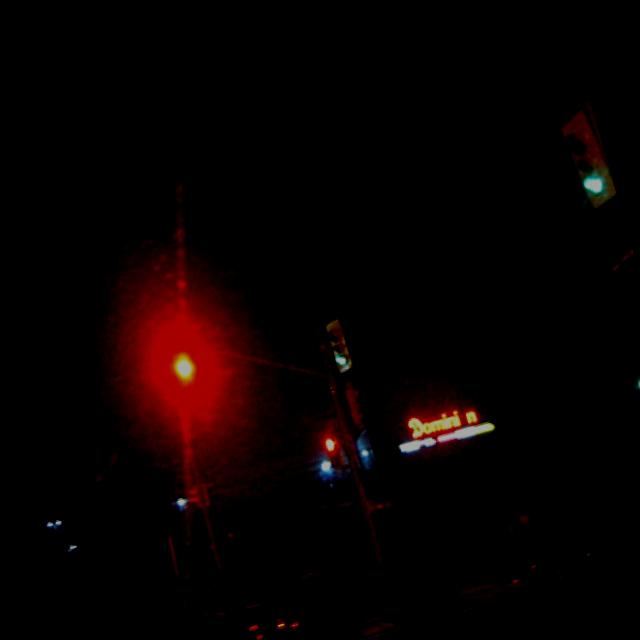Vehicle: (54, 501, 152, 574), (298, 468, 399, 537), (360, 461, 404, 501)
